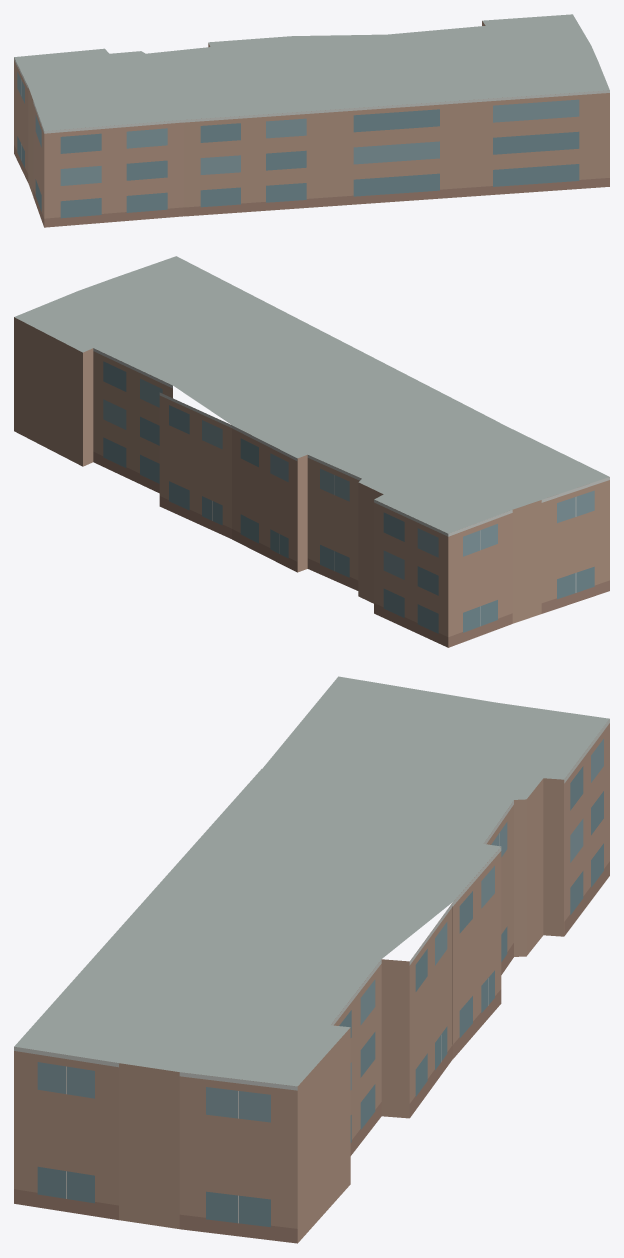
Rendered from survey-upis-33035286.glb.
3 views of the same model, one above another, from view 1: azimuth 30°, elevation 25°; view 2: azimuth 150°, elevation 25°; view 3: azimuth 270°, elevation 25° (orthographic). The views are drawn at different scales.
Parts seen in each view (by area): view 1: survey-upis-33035286.tmp; view 2: survey-upis-33035286.tmp; view 3: survey-upis-33035286.tmp.
Boxes of the visible parts, x1,y1,x2,y2 form: survey-upis-33035286.tmp: [14, 14, 609, 227]; survey-upis-33035286.tmp: [14, 256, 609, 647]; survey-upis-33035286.tmp: [14, 676, 609, 1243].
Bounding box in the file's own units: 51.24 × 9.15 × 31.47.
